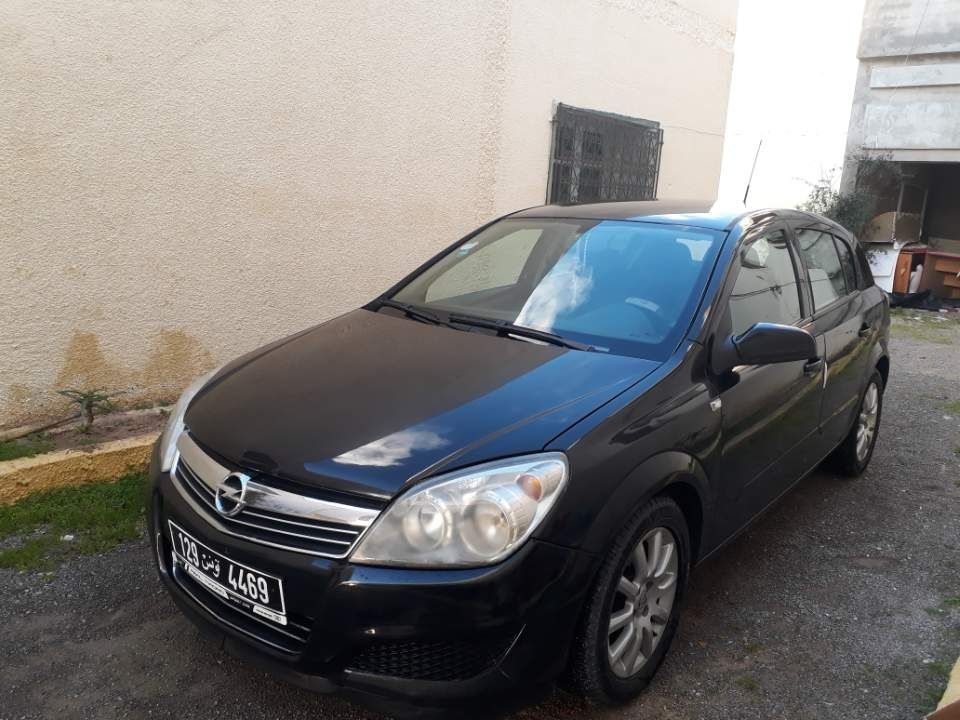LP: (166, 519, 292, 619)
